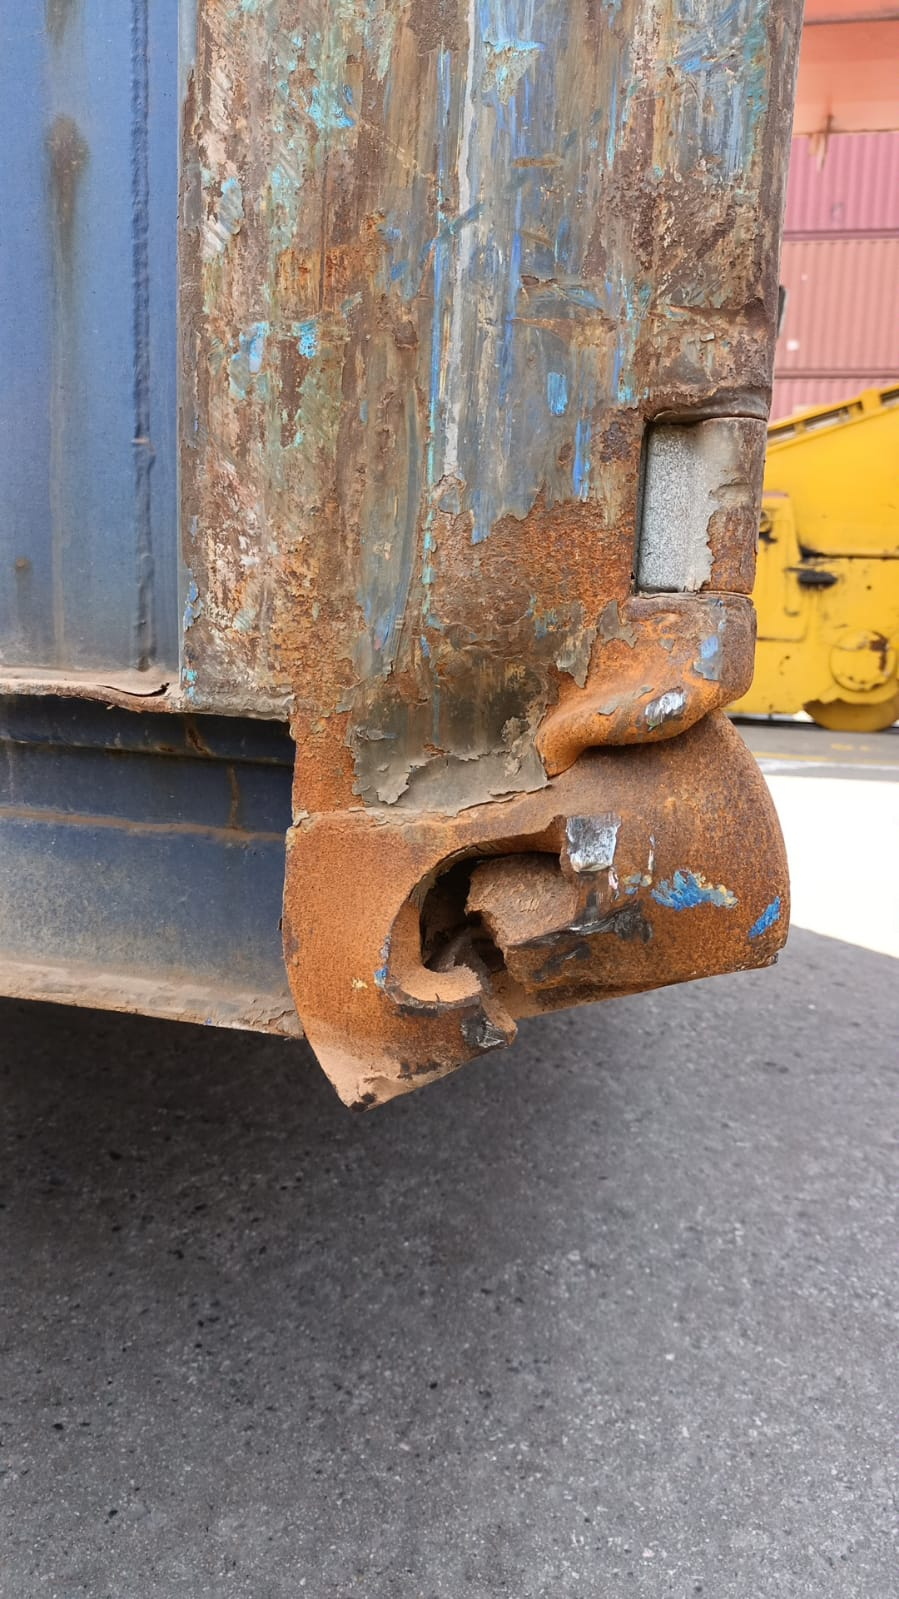moderate: (207, 182, 816, 1082)
